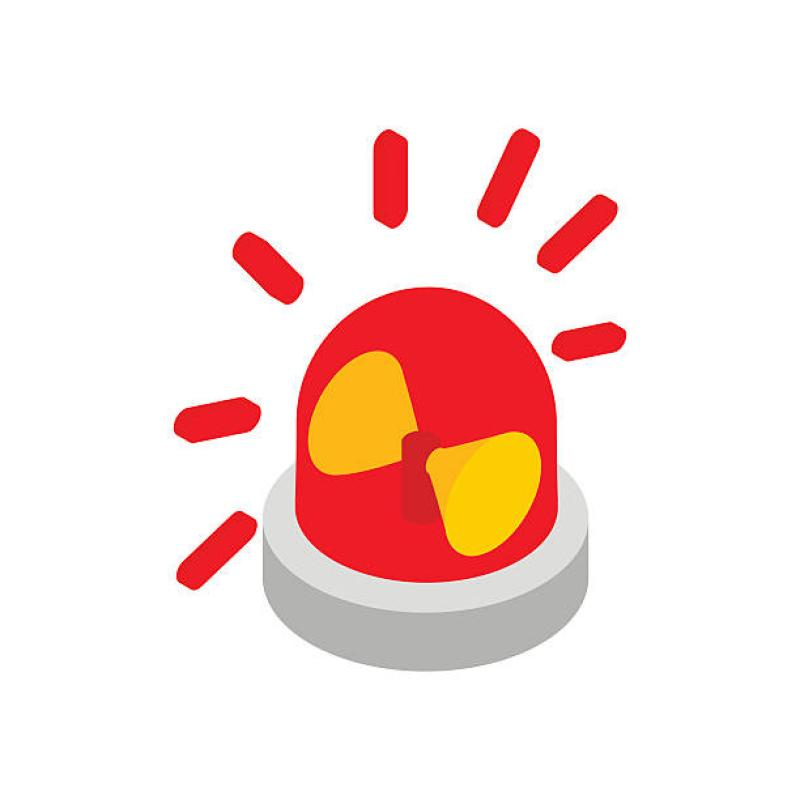AmbulanceSiren: (251, 308, 602, 647)
